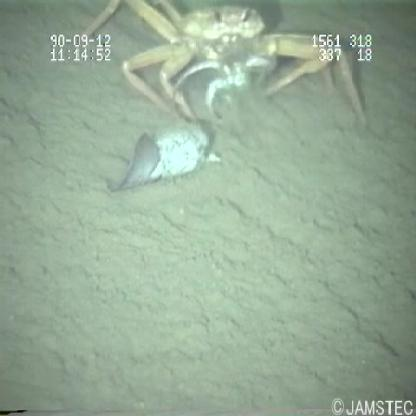Bio: (79, 1, 367, 194)
